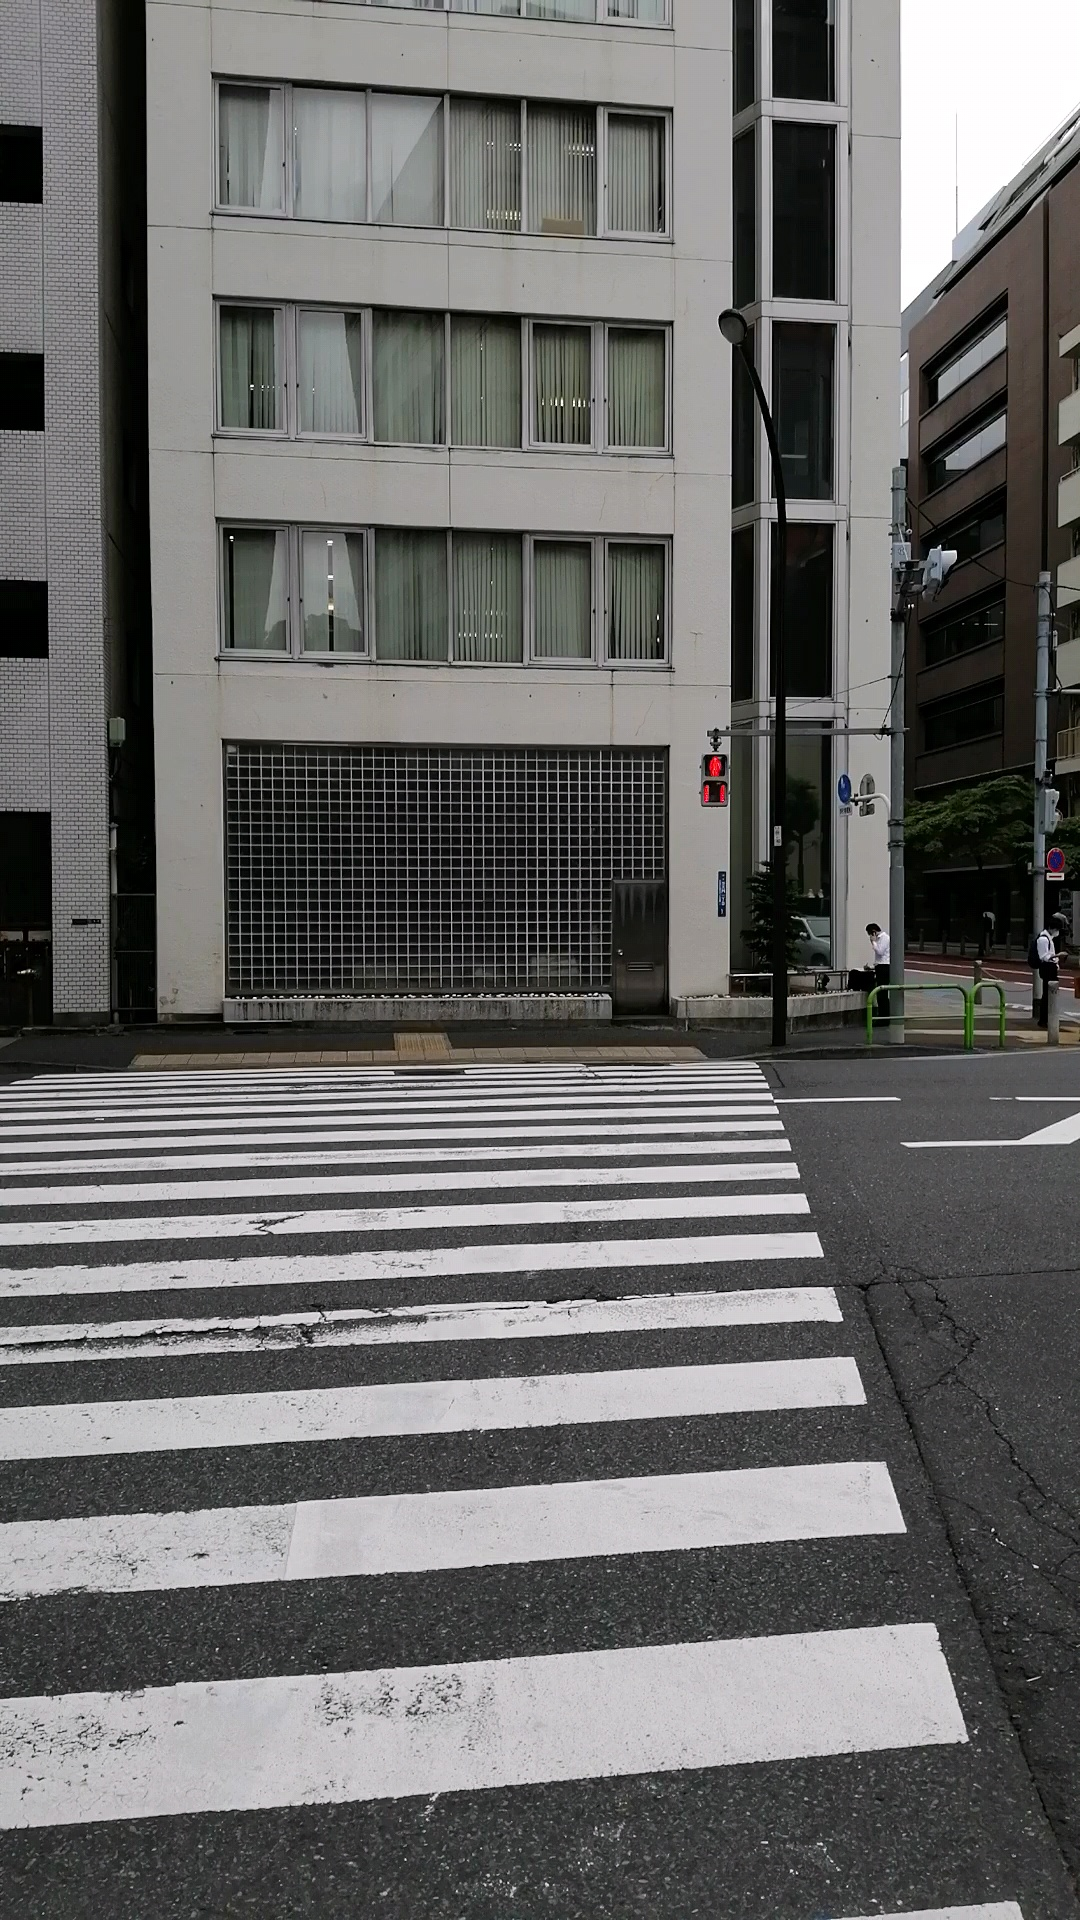red: (699, 752, 731, 807)
